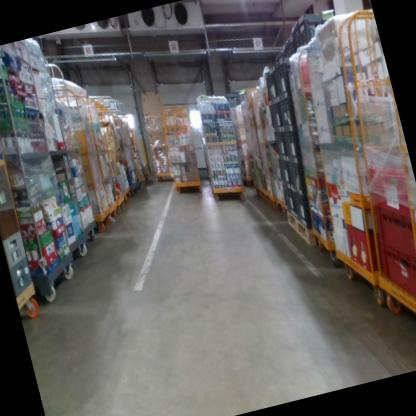pallet: (282, 202, 322, 255)
small_load_carrier: (363, 157, 416, 232), (370, 226, 416, 310), (367, 191, 416, 269)
